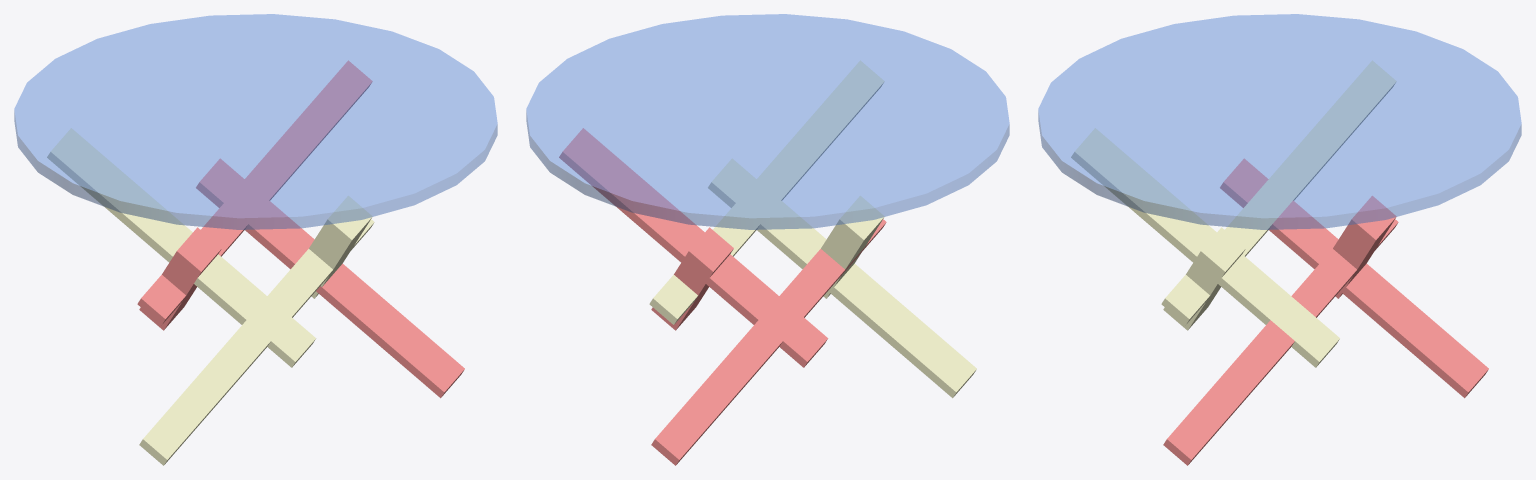
File: mesa-puzzle.glb
3 views of the same model, side by side, from view 1: azimuth 30°, elevation 25°; view 2: azimuth 150°, elevation 25°; view 3: azimuth 270°, elevation 25° (orthographic).
Parts seen in each view (by area): view 1: Tablero, Componente 4,5 y 6 (×3), Componente 1,2 y 3 (×3); view 2: Tablero, Componente 1,2 y 3 (×3), Componente 4,5 y 6 (×3); view 3: Tablero, Componente 4,5 y 6 (×3), Componente 1,2 y 3 (×3).
Boxes of the visible parts, x1,y1,x2,y2 form: Tablero: (14, 14, 497, 229); Componente 4,5 y 6 (×3): (47, 128, 374, 465); Componente 1,2 y 3 (×3): (137, 60, 464, 398); Tablero: (526, 14, 1009, 229); Componente 1,2 y 3 (×3): (559, 128, 886, 465); Componente 4,5 y 6 (×3): (649, 60, 976, 398); Tablero: (1038, 14, 1521, 229); Componente 4,5 y 6 (×3): (1071, 60, 1396, 367); Componente 1,2 y 3 (×3): (1163, 158, 1488, 465).
Bounding box in the file's own units: 0.5985 × 0.3855 × 0.5985.
